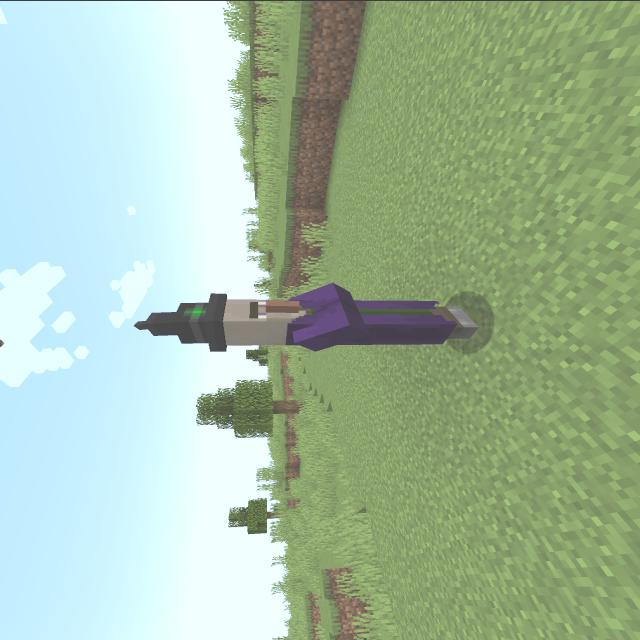Witch: (126, 276, 508, 360)
